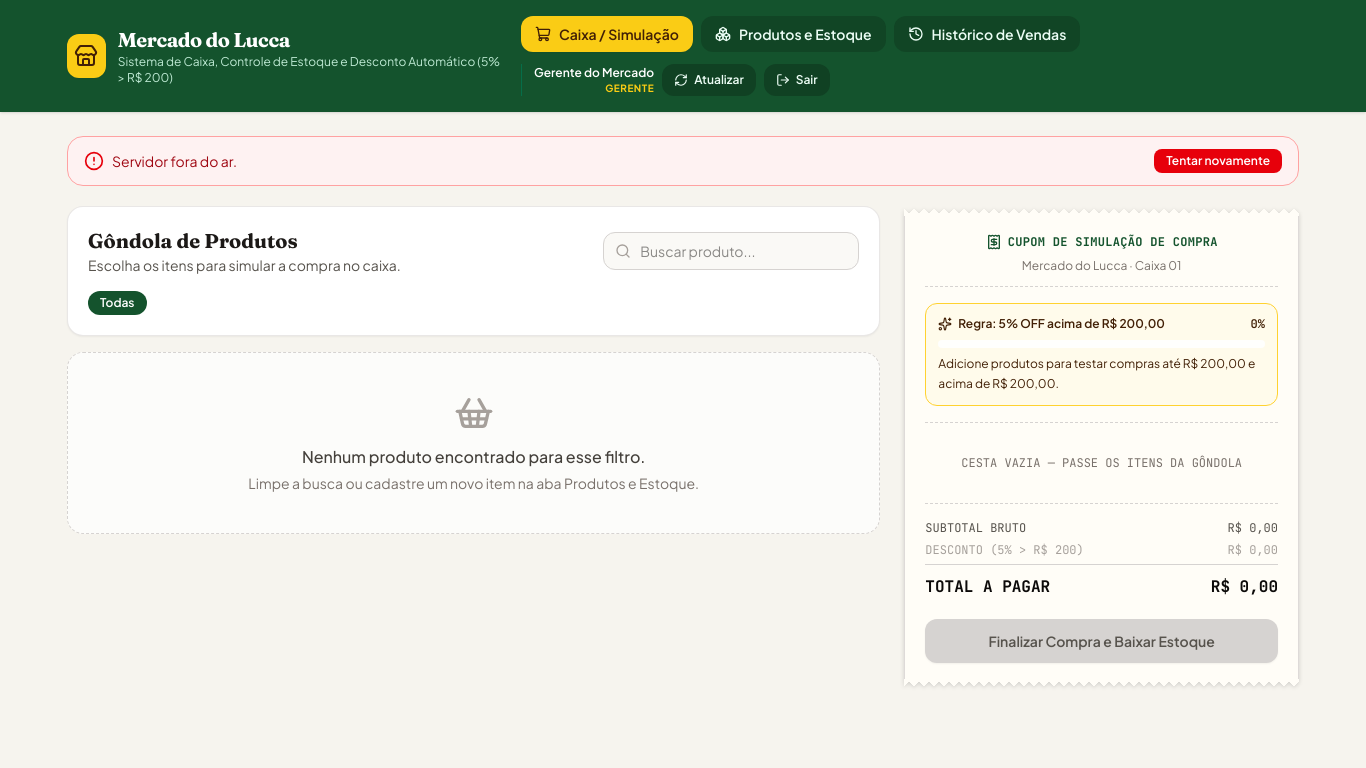
Scenario: Mercado do Lucca — Fluxos completos com Auth e RBAC › exibe erro ao falhar carregamento inicial e recupera ao tentar novamente
Later steps or results of the test are not shown.
Check: the text "Servidor fora do ar." is shown, box [112,151,237,171]
Click the button "Tentar novamente" at (1218, 161), box [1154,149,1282,173]
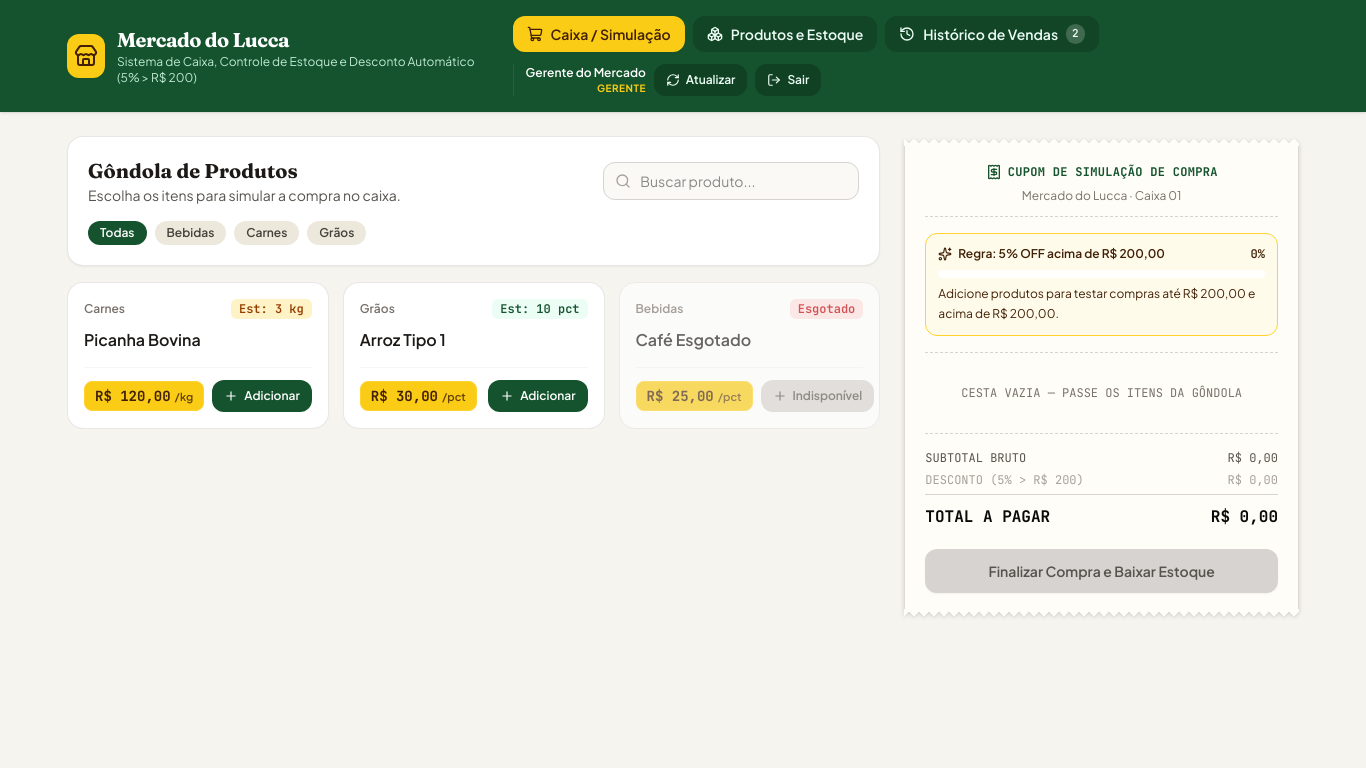
Check: the heading "Picanha Bovina" is shown, box [84,329,201,350]
Check: the button "Indisponível" is disabled, box [760,380,874,412]
Click the button with aria-label "Atualizar dados" at (701, 80), box [654,64,747,96]
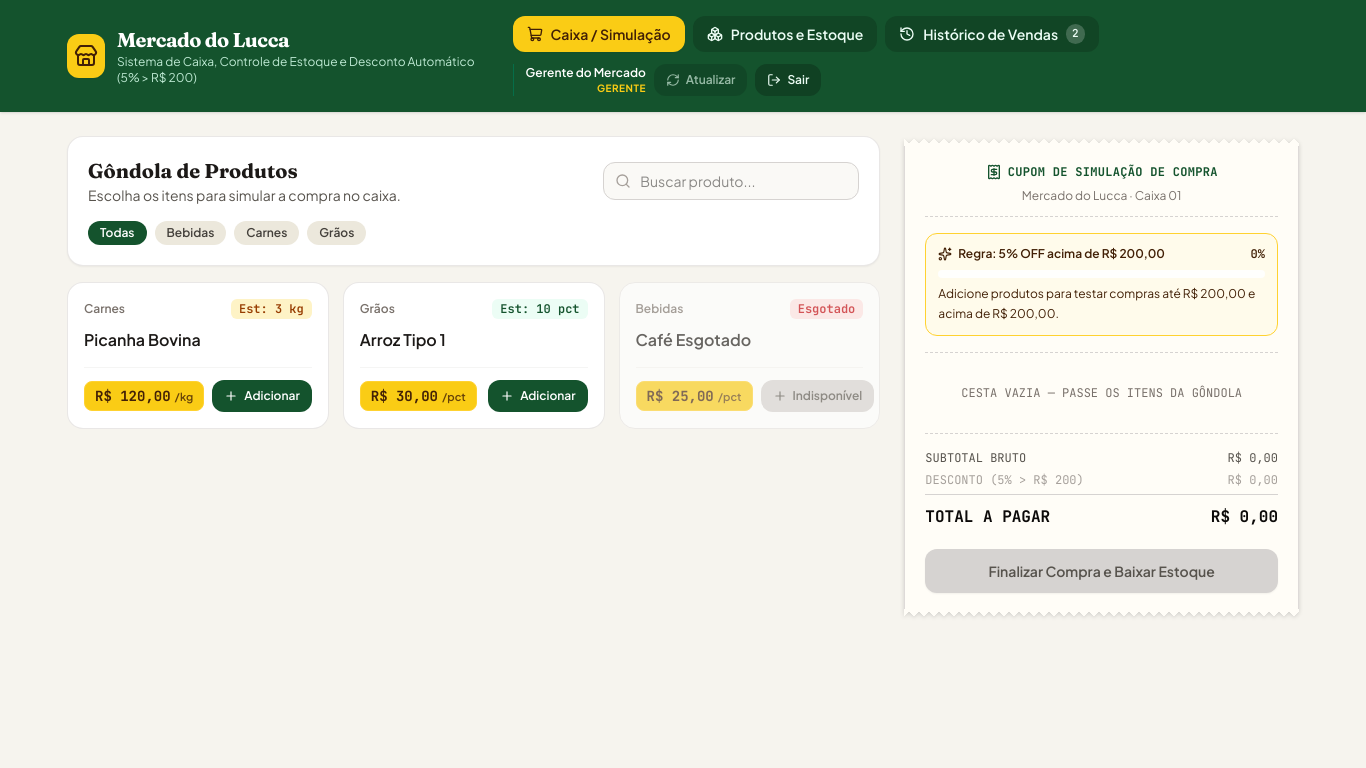
Check: the heading "Picanha Bovina" is shown, box [84,329,201,350]
